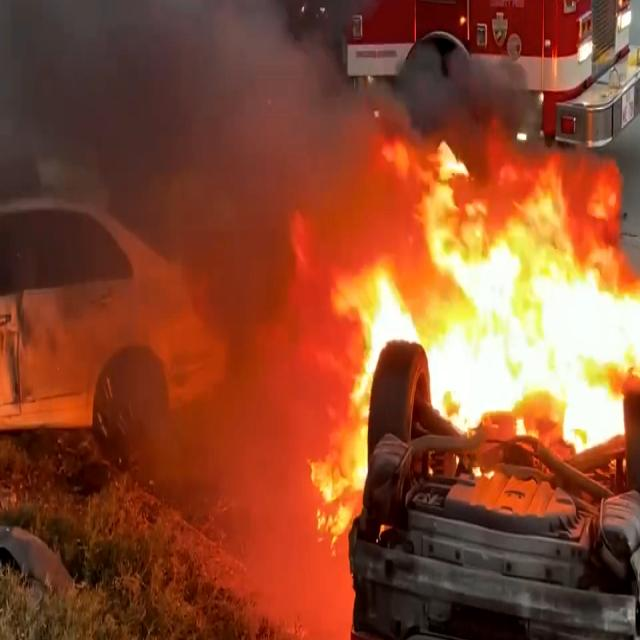fire: (307, 162, 640, 536)
smoke: (0, 0, 285, 154)
